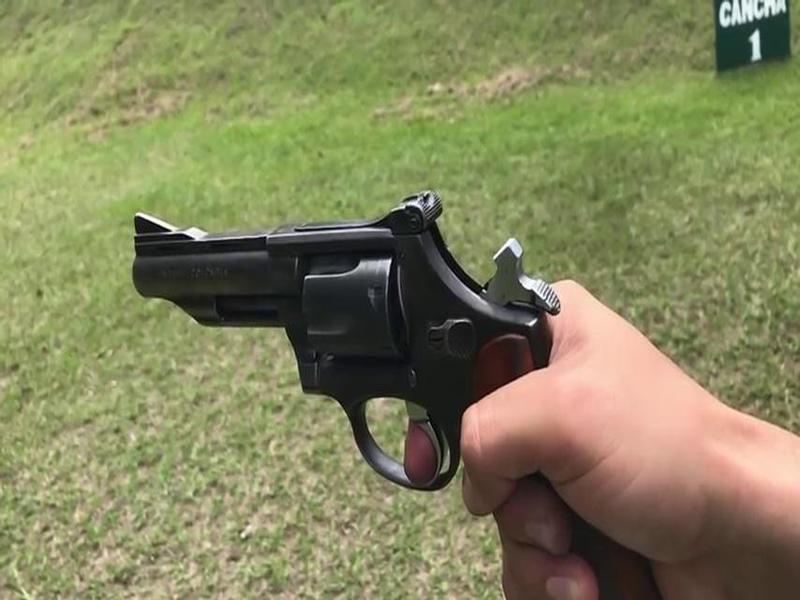Revolver: (117, 161, 615, 514)
